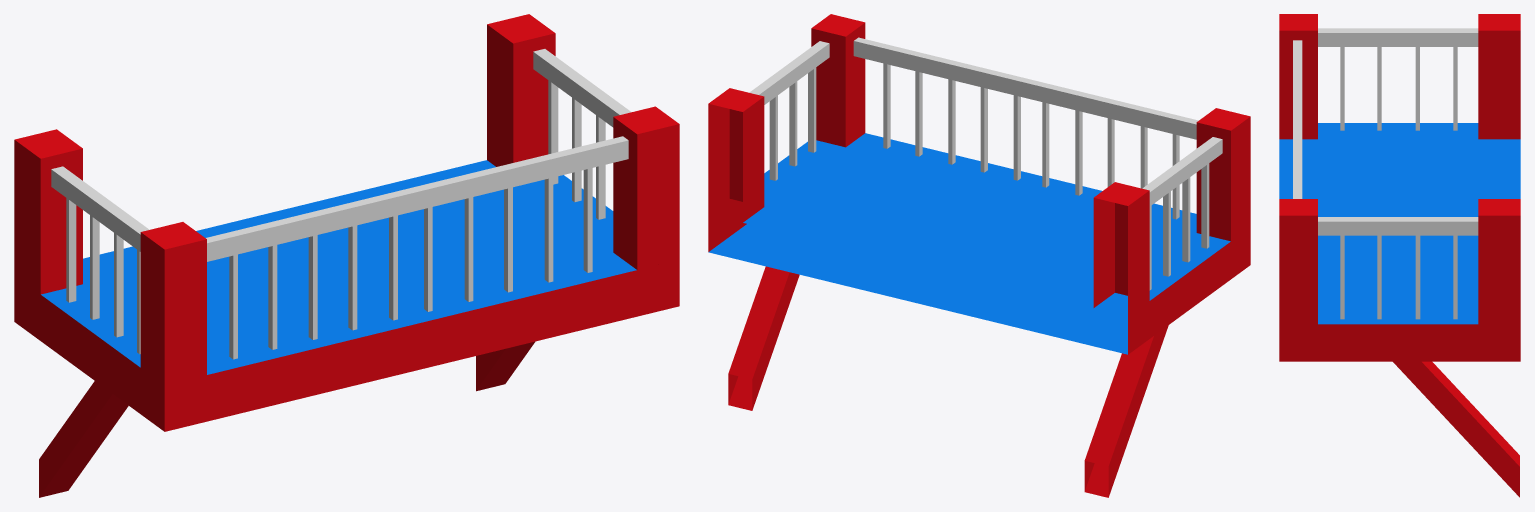
File: test_balcony.glb
The picture shows the model from 3 angles, left to right: view 1: azimuth 30°, elevation 25°; view 2: azimuth 150°, elevation 25°; view 3: azimuth 270°, elevation 25°; orthographic projection. The views are drawn at different scales.
Visible parts, largest first — view 1: mesh; view 2: mesh; view 3: mesh.
Part boxes in pixels (left/top/right/bottom): mesh: left=14, top=14, right=679, bottom=497; mesh: left=708, top=14, right=1250, bottom=497; mesh: left=1279, top=14, right=1520, bottom=497.
Size of the model in its own units: 5.92 by 4 by 2.99.
